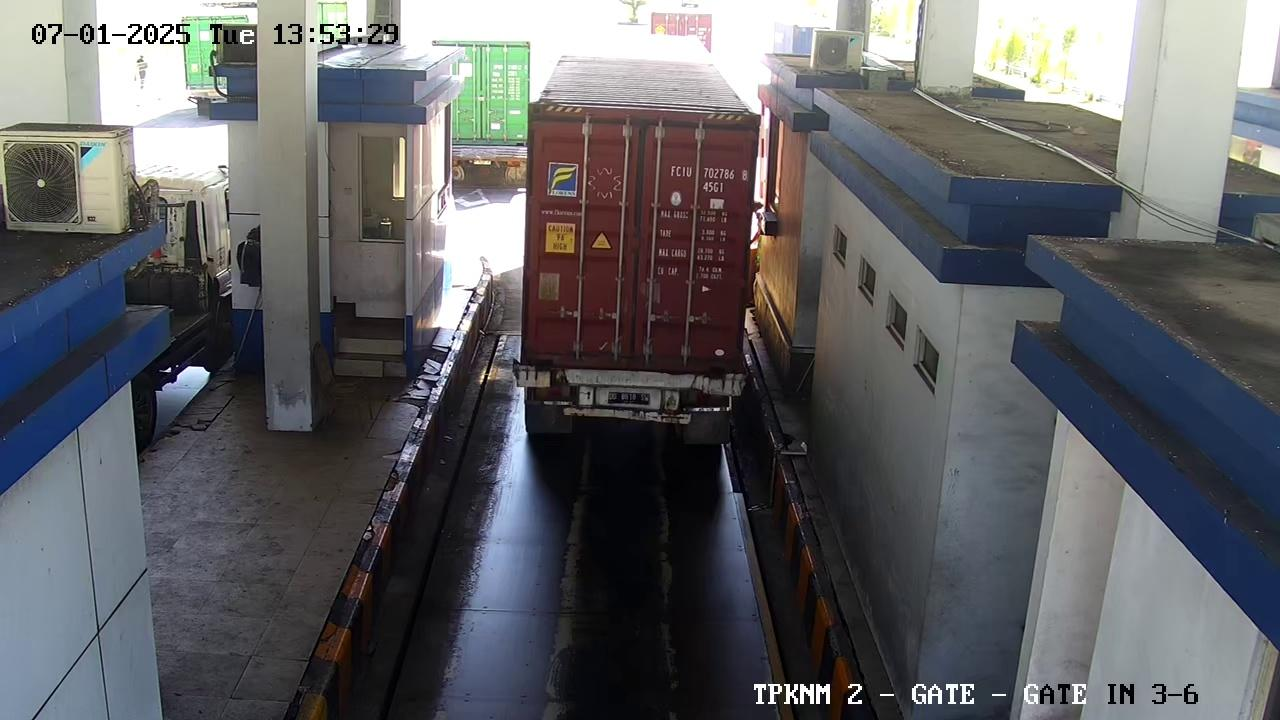Container_ID: (665, 160, 756, 184)
plate_number: (597, 384, 659, 416)
